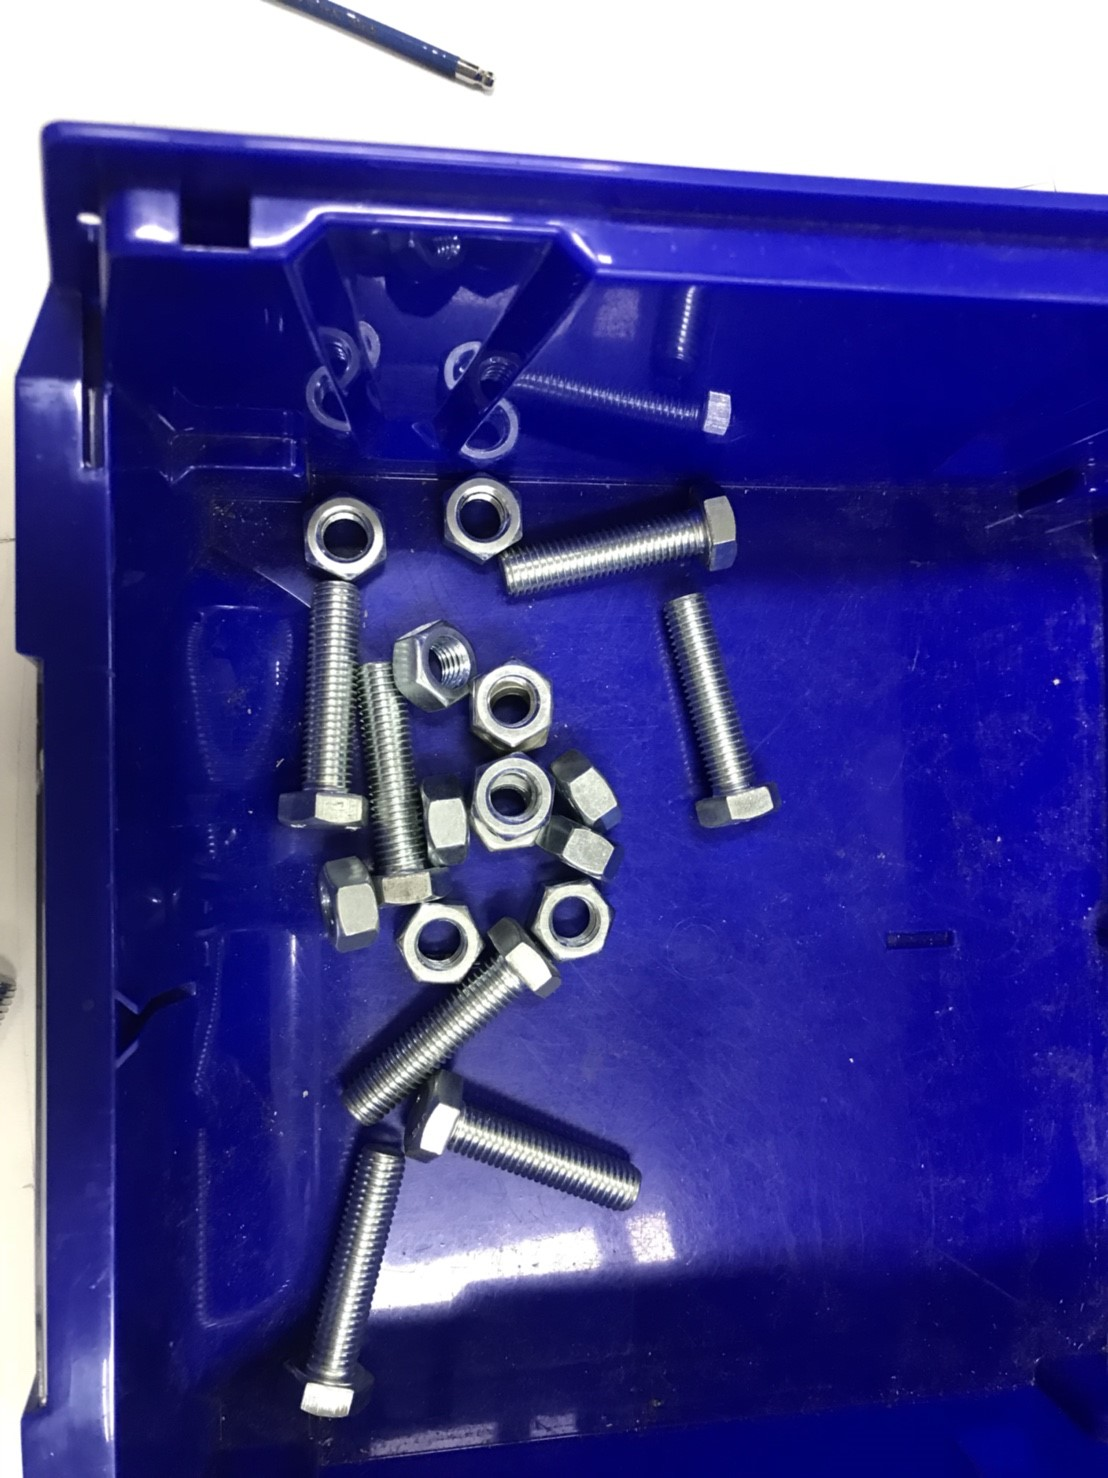nut: (291, 479, 388, 589), (432, 468, 532, 570), (464, 653, 561, 756), (544, 740, 640, 836), (389, 614, 474, 712), (528, 876, 610, 976), (398, 900, 486, 989), (310, 855, 379, 955), (474, 763, 561, 843), (547, 827, 630, 891), (410, 779, 470, 864)
screw: (332, 923, 561, 1134), (645, 580, 783, 847), (279, 1132, 402, 1427), (409, 1076, 648, 1225), (270, 573, 396, 850), (496, 491, 759, 607), (349, 642, 445, 925)
